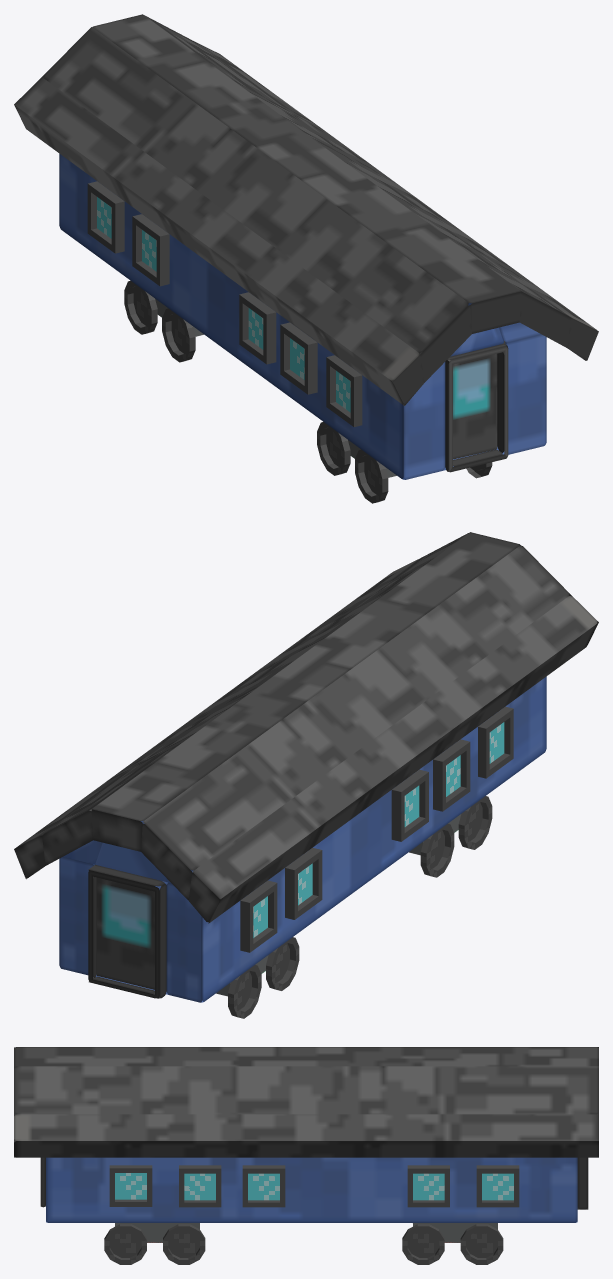
File: Tau_2.fbx
3 renders of one model, top to bottom at view 1: azimuth 30°, elevation 25°; view 2: azimuth 150°, elevation 25°; view 3: azimuth 270°, elevation 25°, orthographic. The views are drawn at different scales.
Visible parts, largest first — view 1: toa01, Window01_1, Window01_2, Window01_3, Window01_4, Window01, circle_7, circle_1, circle_5, circle_3; view 2: toa01, Window01_1, Window01_4, Window01_2, Window01_3, Window01, circle_3, circle_5, circle_7, circle_1; view 3: toa01, Window01_2, Window01_4, Window01, Window01_1, Window01_3, circle_6, circle, circle_2, circle_4, cuboid_2, cuboid.
Boxes of the visible parts, left/top/right/bottom form: toa01: left=14, top=14, right=598, bottom=479; Window01_1: left=280, top=322, right=317, bottom=394; Window01_2: left=239, top=292, right=276, bottom=364; Window01_3: left=132, top=214, right=169, bottom=286; Window01_4: left=87, top=181, right=124, bottom=253; Window01: left=326, top=341, right=505, bottom=426; circle_7: left=162, top=308, right=195, bottom=362; circle_1: left=124, top=280, right=157, bottom=334; circle_5: left=355, top=449, right=388, bottom=503; circle_3: left=317, top=422, right=350, bottom=475; toa01: left=14, top=532, right=598, bottom=1002; Window01_1: left=433, top=739, right=470, bottom=811; Window01_4: left=240, top=880, right=277, bottom=952; Window01_2: left=391, top=769, right=428, bottom=841; Window01_3: left=285, top=848, right=322, bottom=919; Window01: left=478, top=706, right=513, bottom=778; circle_3: left=420, top=823, right=454, bottom=877; circle_5: left=458, top=796, right=492, bottom=849; circle_7: left=266, top=937, right=299, bottom=990; circle_1: left=228, top=965, right=261, bottom=1018; toa01: left=14, top=1047, right=598, bottom=1222; Window01_2: left=242, top=1165, right=285, bottom=1207; Window01_4: left=476, top=1165, right=519, bottom=1207; Window01: left=109, top=1165, right=152, bottom=1206; Window01_1: left=179, top=1165, right=221, bottom=1207; Window01_3: left=407, top=1165, right=449, bottom=1207; circle_6: left=460, top=1224, right=503, bottom=1264; circle: left=163, top=1224, right=205, bottom=1264; circle_2: left=104, top=1224, right=146, bottom=1264; circle_4: left=402, top=1224, right=444, bottom=1264; cuboid_2: left=413, top=1223, right=497, bottom=1242; cuboid: left=115, top=1223, right=199, bottom=1242.
Size of the model in its own units: 216 by 243 by 688.
Materials: 6 (6 with a texture image).
